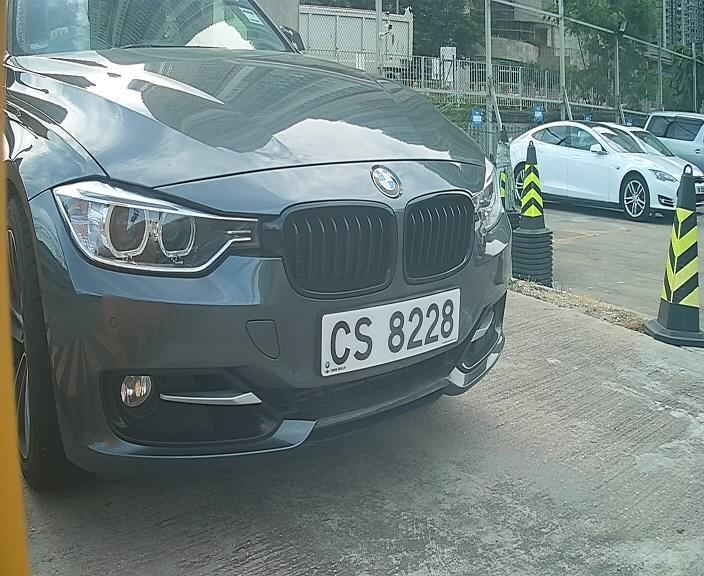privatecar: (1, 26, 563, 476)
